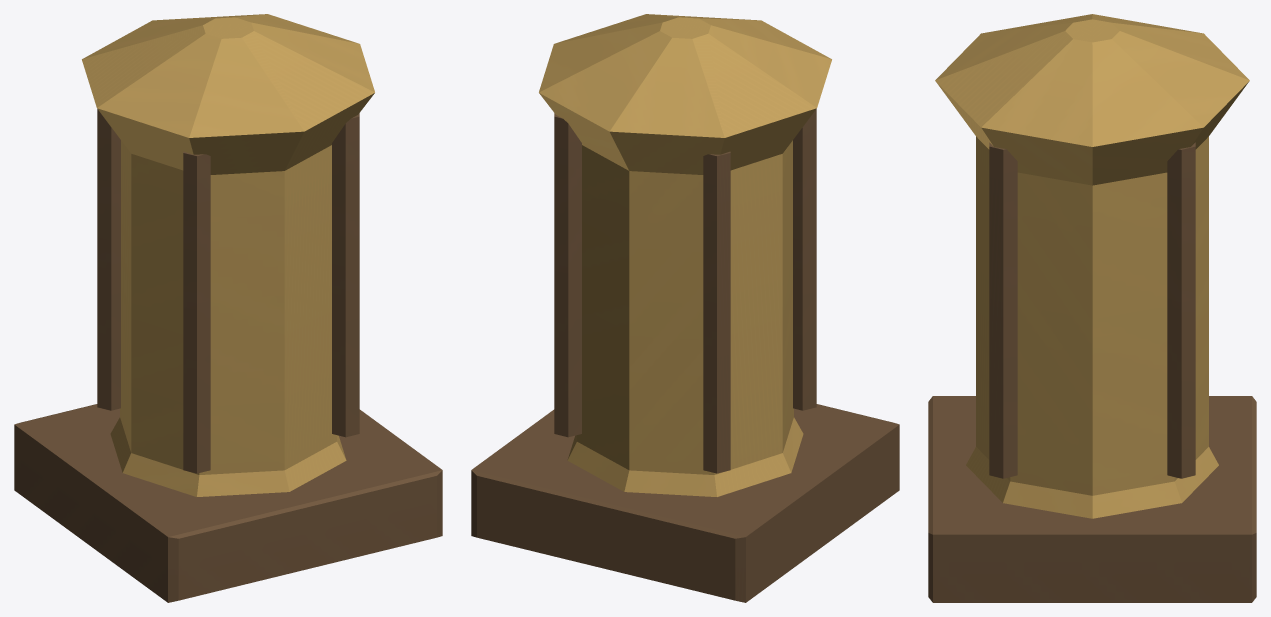
File: SM_WC_Lantern.fbx
3 renders of one model, left to right at view 1: azimuth 30°, elevation 25°; view 2: azimuth 150°, elevation 25°; view 3: azimuth 270°, elevation 25°, orthographic. The views are drawn at different scales.
Visible parts, largest first — view 1: SM_WC_Lantern; view 2: SM_WC_Lantern; view 3: SM_WC_Lantern.
Part boxes in pixels (box(x1,y1,x2,y2)): SM_WC_Lantern: box(14, 14, 442, 602); SM_WC_Lantern: box(471, 14, 899, 602); SM_WC_Lantern: box(928, 14, 1256, 602).
Bounding box in the file's own units: 0.48 × 0.48 × 0.81.
